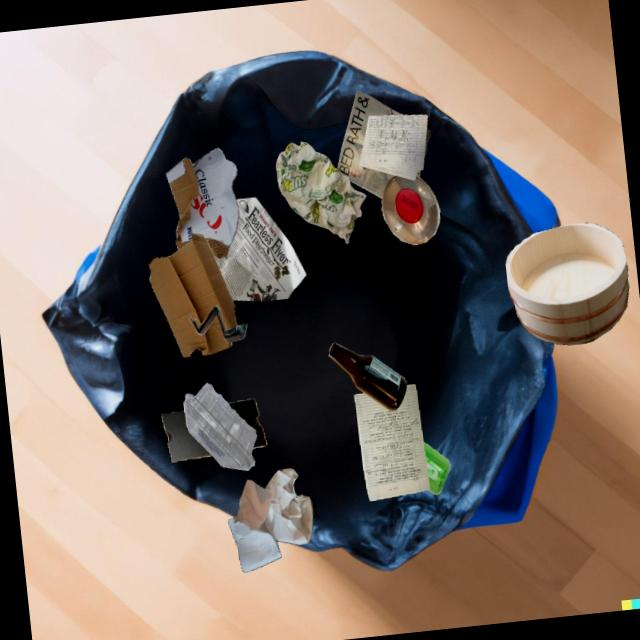cardboard: (148, 233, 237, 357), (165, 147, 239, 259), (162, 410, 212, 462), (189, 305, 247, 343), (228, 398, 267, 448)
combustible waste: (505, 223, 628, 345)
glass: (329, 342, 407, 410)
paper: (213, 197, 306, 301), (275, 141, 366, 244), (227, 468, 313, 572), (354, 384, 429, 501), (337, 90, 403, 198), (359, 114, 427, 180), (381, 128, 426, 198)
plastic: (183, 382, 256, 470), (381, 175, 440, 245), (423, 441, 450, 494)
